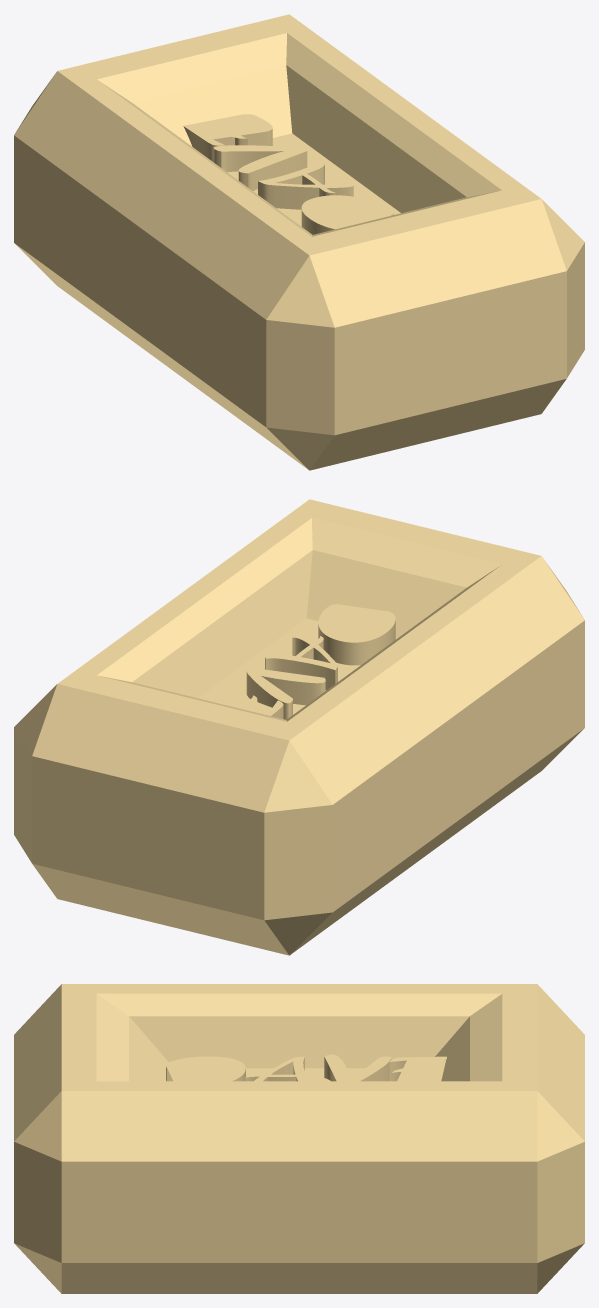
The model's file is SOAP 2.fbx.
3 views of the same model, one above another, from view 1: azimuth 30°, elevation 25°; view 2: azimuth 150°, elevation 25°; view 3: azimuth 270°, elevation 25° (orthographic). The views are drawn at different scales.
Visible parts, largest first — view 1: typeMesh5; view 2: typeMesh5; view 3: typeMesh5.
Boxes of the visible parts, x1,y1,x2,y2 form: typeMesh5: [14, 14, 584, 470]; typeMesh5: [14, 499, 584, 955]; typeMesh5: [14, 984, 584, 1293].
Size of the model in its own units: 2.1 by 1.36 by 3.46.
1 material, 1 textured.
